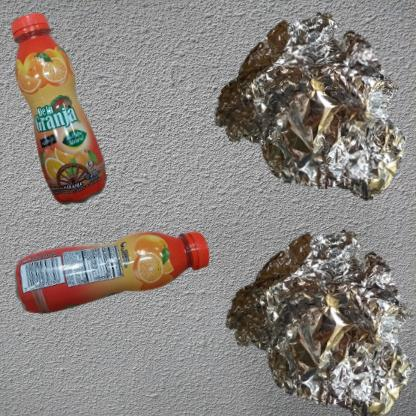aluminio: (213, 213, 416, 416), (213, 10, 409, 201)
botella: (10, 213, 223, 336), (10, 10, 111, 213)
